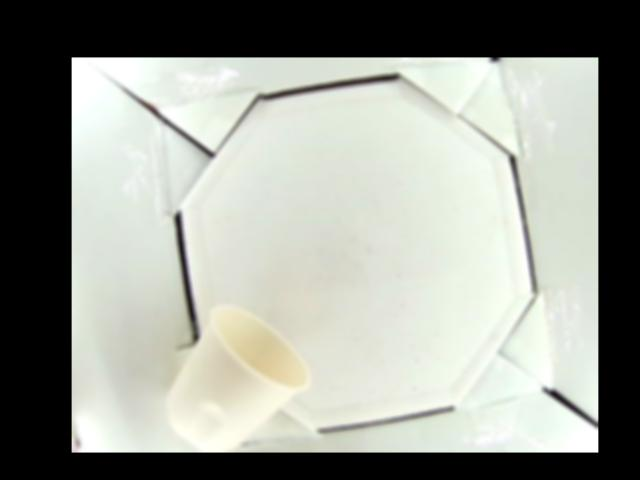Cup: (163, 306, 308, 452)
